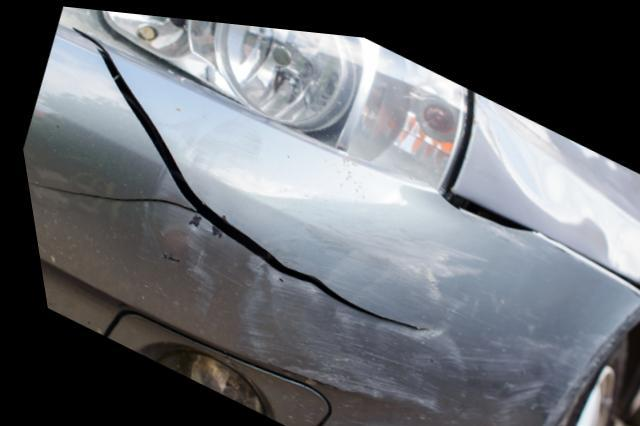crack: (22, 28, 421, 326)
dent: (472, 83, 640, 266)
scratch: (129, 196, 609, 426)
